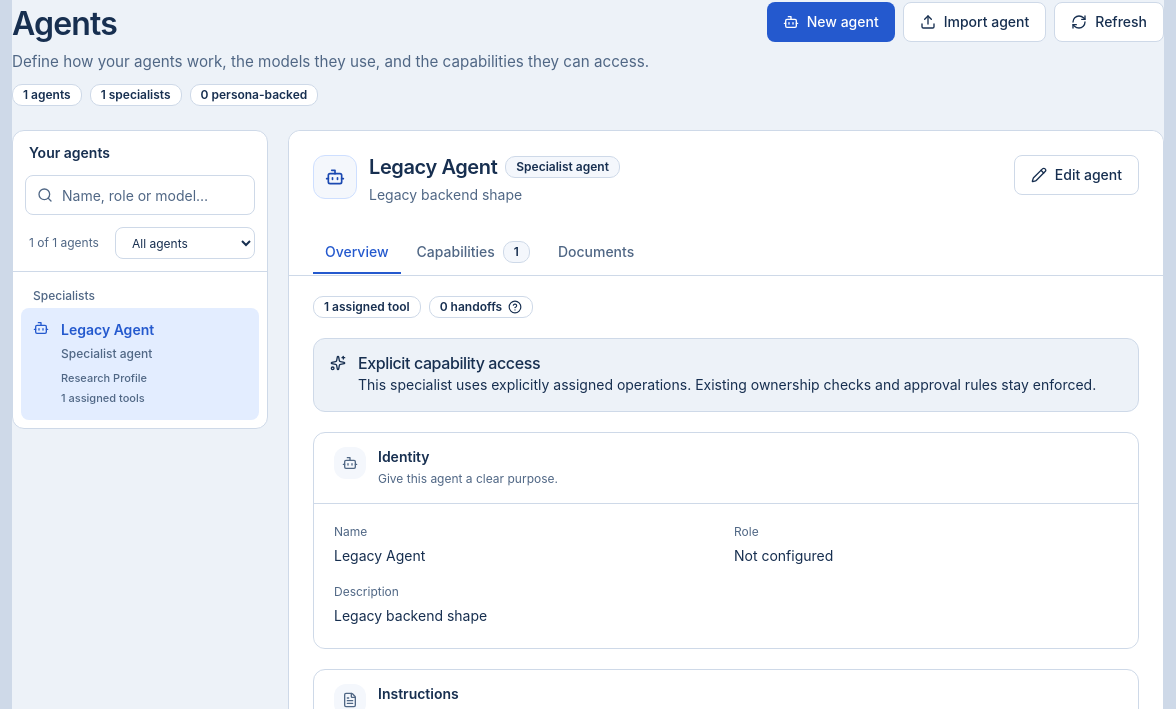
Scenario: AgentsWorkspace › renders agents that are missing normalized config
The image size is (1176, 709).
Check: the button with aria-label "Inspect Legacy Agent" is shown, box left=21, top=308, right=259, bottom=420
Press the mouse on the tab "Capabilities 1" at (473, 253), box left=404, top=231, right=542, bottom=275
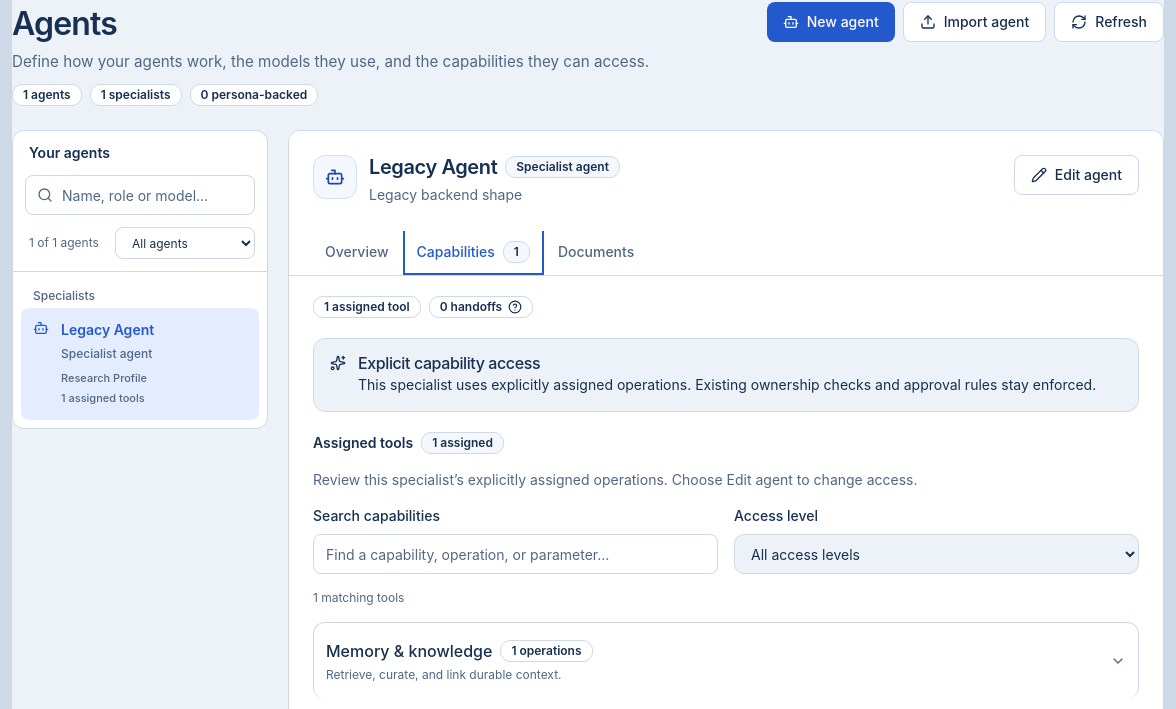
Click the button "Memory & knowledge".
click(409, 651)  # box left=326, top=623, right=1126, bottom=699
(page scrolled)
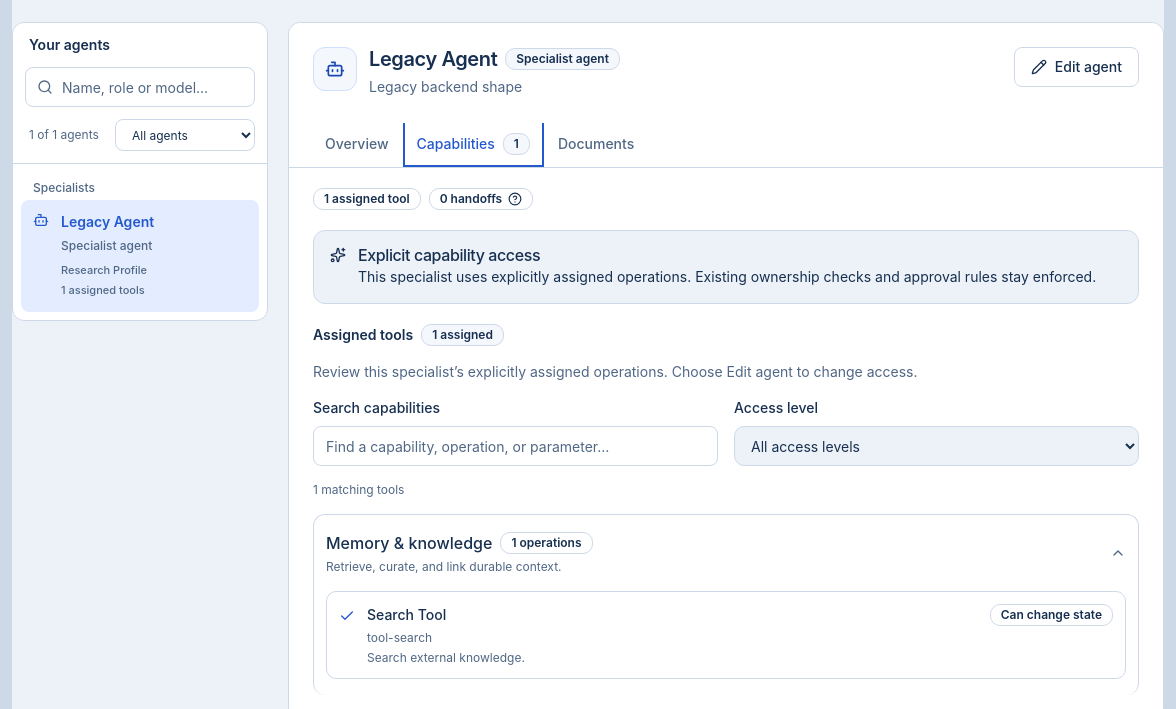
Check: the text "Search Tool" is shown, box left=367, top=605, right=446, bottom=625
